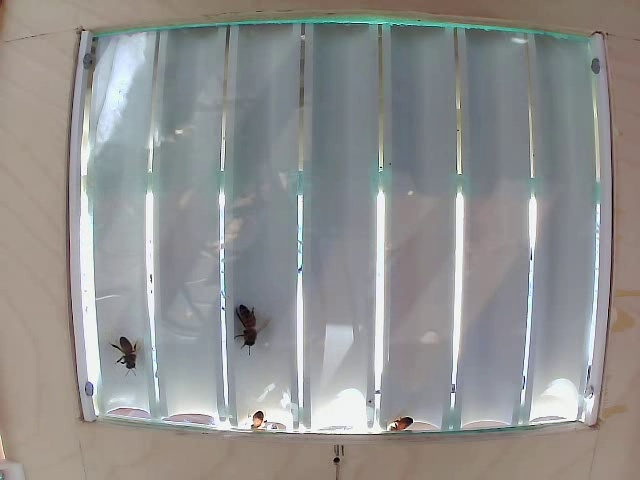bee: (227, 297, 273, 346), (110, 343, 136, 367)
